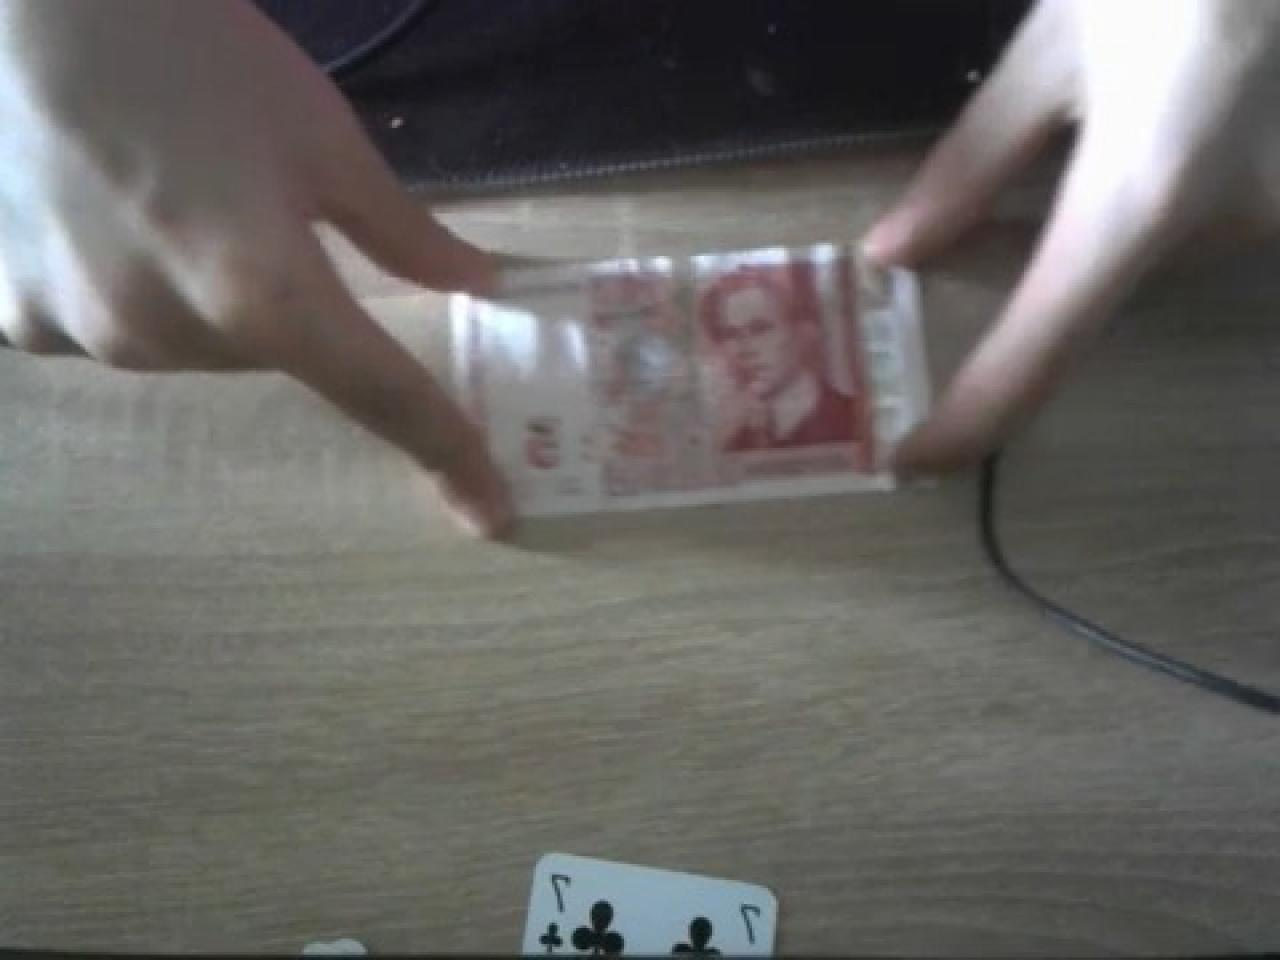5leva: (496, 245, 888, 501), (504, 248, 870, 504)
